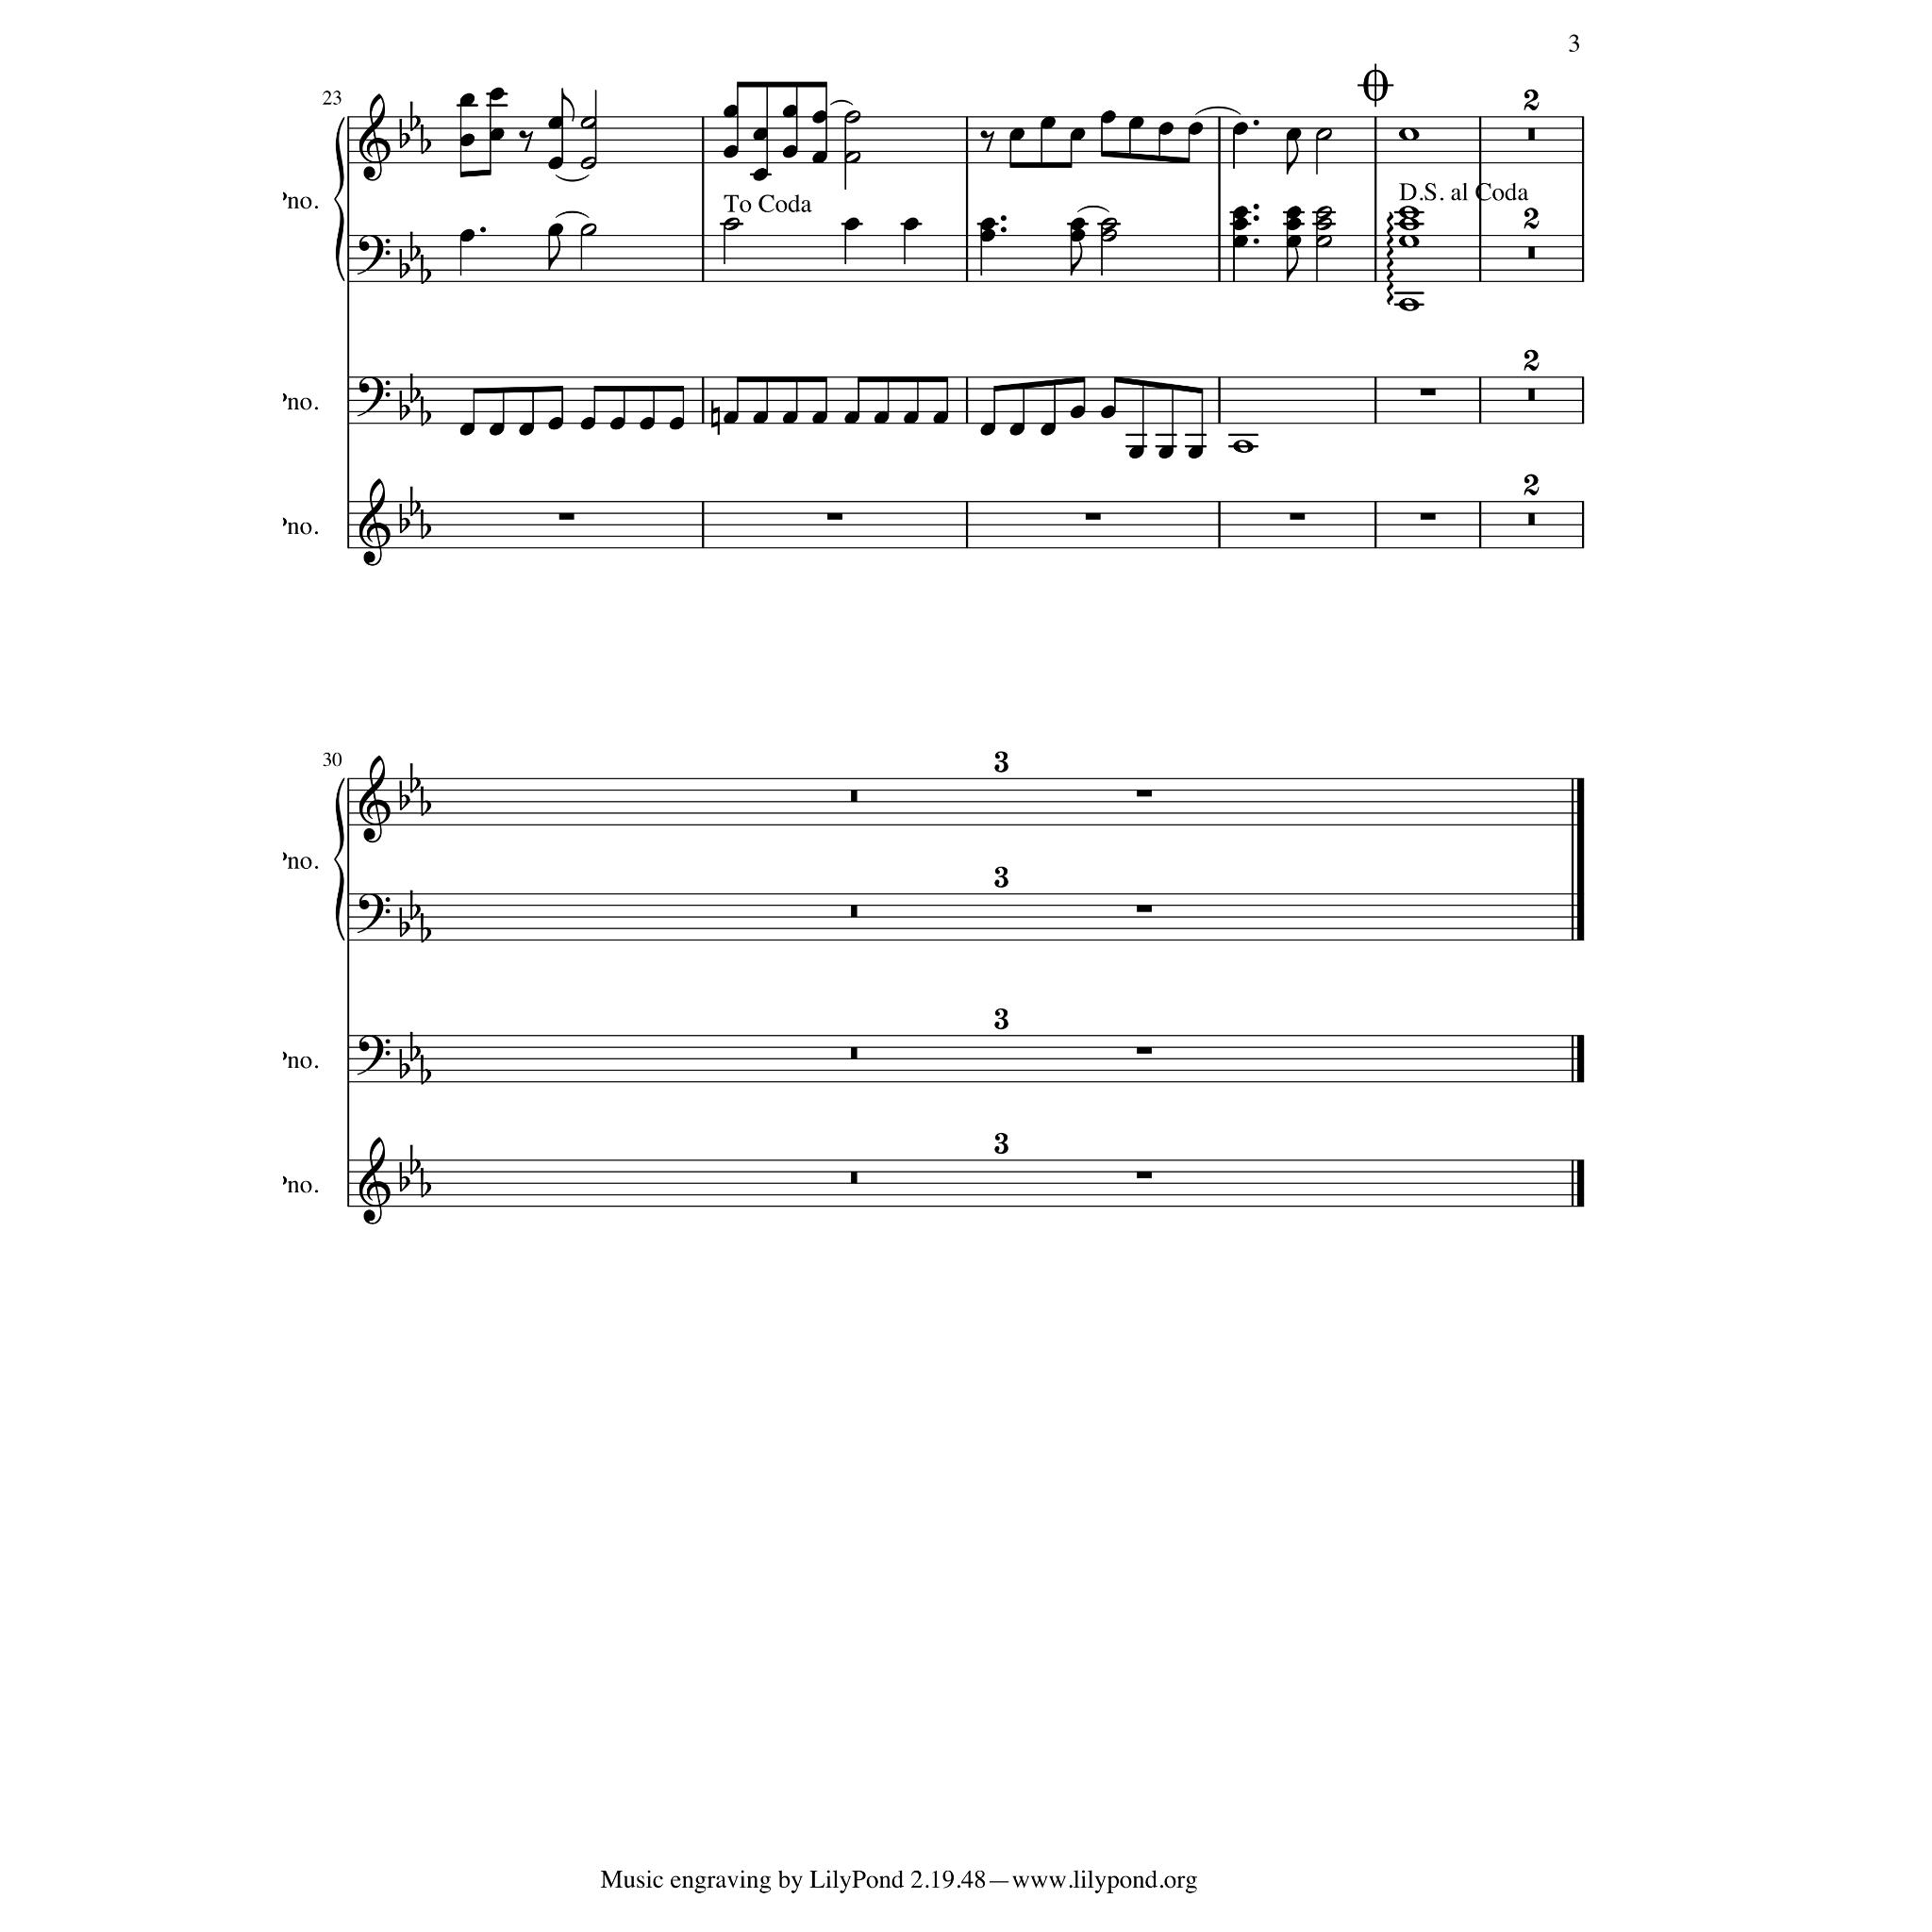brace: (333, 117, 344, 281), (333, 777, 344, 941)
fClef: (357, 234, 391, 275), (357, 892, 391, 934), (357, 377, 391, 417), (357, 1036, 391, 1075)
flag8thDown: (1070, 241, 1083, 275), (1287, 248, 1298, 282), (1287, 141, 1298, 175), (549, 236, 560, 270)
flag8thUp: (561, 89, 575, 123)
gClef: (358, 93, 391, 182), (358, 478, 391, 567), (358, 1137, 391, 1225), (358, 755, 391, 843)
noteheadBlack: (1187, 445, 1204, 460), (1285, 217, 1302, 232), (1285, 206, 1302, 221), (843, 217, 860, 232), (979, 217, 996, 232), (811, 109, 828, 125), (1158, 445, 1174, 460), (1232, 217, 1247, 232), (1232, 206, 1247, 221), (1101, 109, 1116, 125), (1070, 217, 1085, 232), (1128, 445, 1143, 460), (904, 217, 919, 232), (1187, 122, 1204, 135), (1040, 117, 1057, 130), (1040, 423, 1057, 436), (1285, 128, 1302, 142), (1285, 235, 1302, 248), (579, 417, 596, 430), (668, 417, 685, 430), (723, 145, 740, 158), (723, 105, 740, 118), (723, 411, 740, 425), (458, 134, 475, 147), (458, 93, 475, 107), (458, 229, 475, 242), (458, 423, 475, 436), (547, 157, 564, 170), (547, 117, 564, 130), (547, 224, 564, 237), (547, 417, 564, 430), (843, 411, 860, 425), (979, 229, 996, 242), (979, 423, 996, 436), (781, 411, 798, 425), (781, 105, 798, 118), (781, 145, 798, 158), (811, 411, 828, 425), (811, 151, 828, 164), (1158, 122, 1174, 135), (1232, 122, 1247, 135), (1232, 235, 1247, 248), (1070, 128, 1085, 142), (1070, 229, 1085, 242), (1009, 128, 1024, 142), (1009, 423, 1024, 436), (1101, 406, 1116, 419), (1128, 117, 1143, 130), (1070, 406, 1085, 419), (609, 417, 625, 430), (640, 417, 655, 430), (519, 423, 534, 436), (489, 423, 504, 436), (489, 128, 504, 142), (489, 88, 504, 101), (874, 411, 889, 425), (904, 411, 919, 425), (933, 411, 948, 425), (753, 168, 768, 181), (753, 128, 768, 142), (753, 411, 768, 425)
noteheadHalf: (1100, 217, 1117, 232), (1315, 217, 1332, 232), (723, 217, 740, 232), (844, 109, 861, 125), (1100, 229, 1117, 242), (1315, 207, 1332, 220), (1315, 128, 1332, 142), (1315, 235, 1332, 248), (580, 157, 597, 170), (580, 117, 597, 130), (580, 224, 597, 237), (844, 151, 861, 164)
noteheadWhole: (1398, 234, 1419, 249), (1398, 217, 1419, 232), (1398, 206, 1419, 221), (1232, 441, 1253, 454), (1398, 128, 1419, 142), (1398, 298, 1419, 311)
rest8th: (518, 130, 533, 153), (979, 130, 994, 153)
restHNr: (1523, 88, 1540, 112), (1523, 207, 1540, 231), (1523, 348, 1540, 373), (1523, 474, 1540, 496), (994, 865, 1008, 890), (994, 750, 1008, 774), (994, 1132, 1008, 1157), (994, 1007, 1008, 1031)
restWhole: (850, 1047, 1152, 1060), (850, 906, 1152, 917), (850, 791, 1152, 802), (850, 1172, 1152, 1183), (1085, 513, 1102, 521), (826, 513, 843, 521), (1419, 513, 1436, 521), (1419, 389, 1436, 396), (1289, 513, 1306, 521), (558, 513, 574, 521), (1527, 513, 1535, 526), (1527, 128, 1535, 142), (1527, 247, 1535, 258), (1527, 389, 1535, 400)
